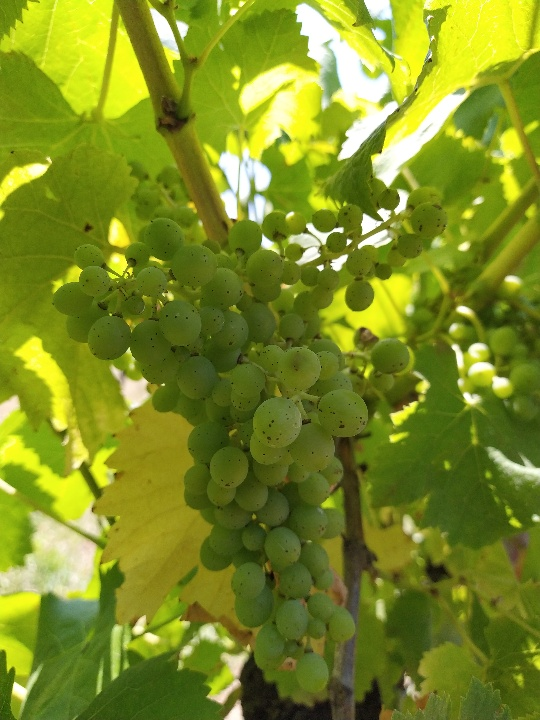grape: (49, 179, 448, 698)
